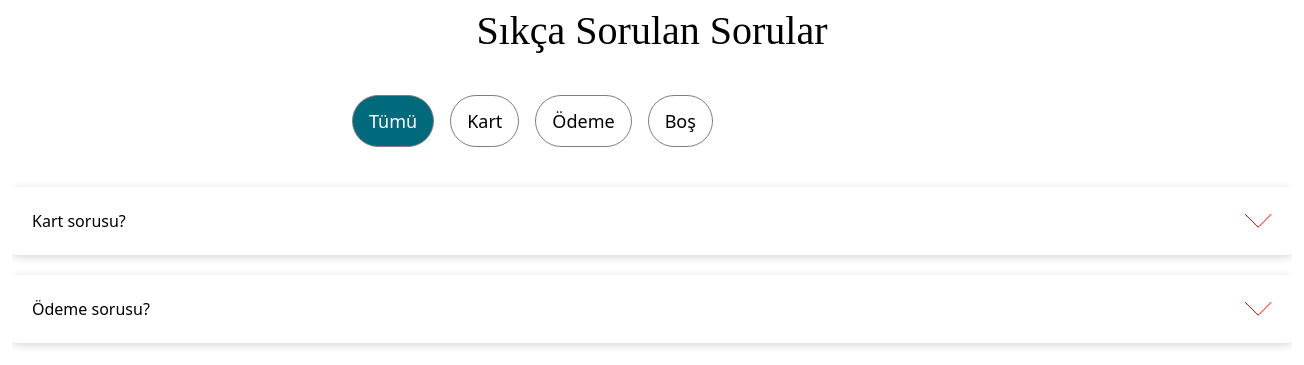
Test: FaqCategoryFilter › shows an explicit empty-state message for a category with no questions
Click the link "Boş": (680, 121) [648,95,713,147]
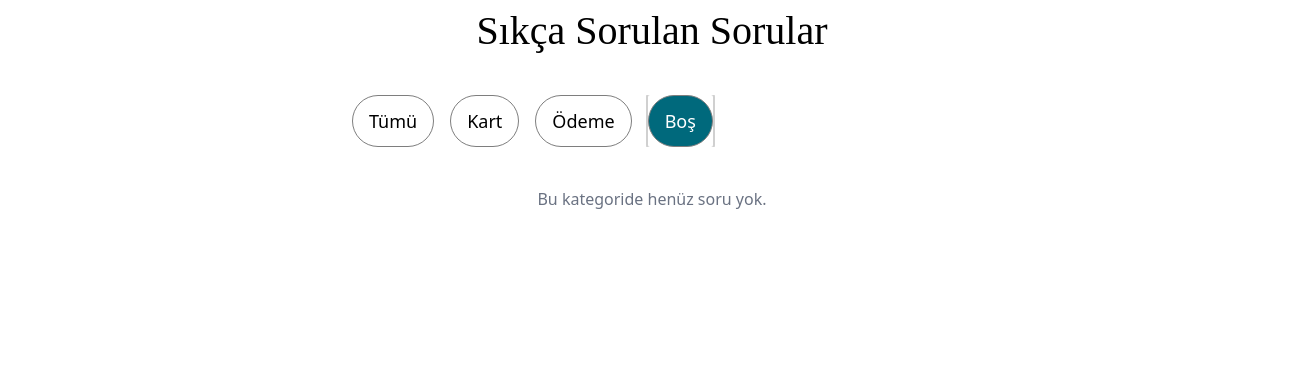
Expected: the text "Bu kategoride henüz soru yok." is shown, [538,188,767,210]
